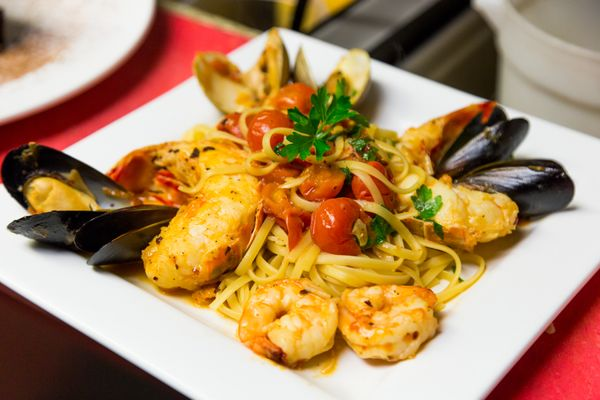sushi: (474, 0, 600, 140)
